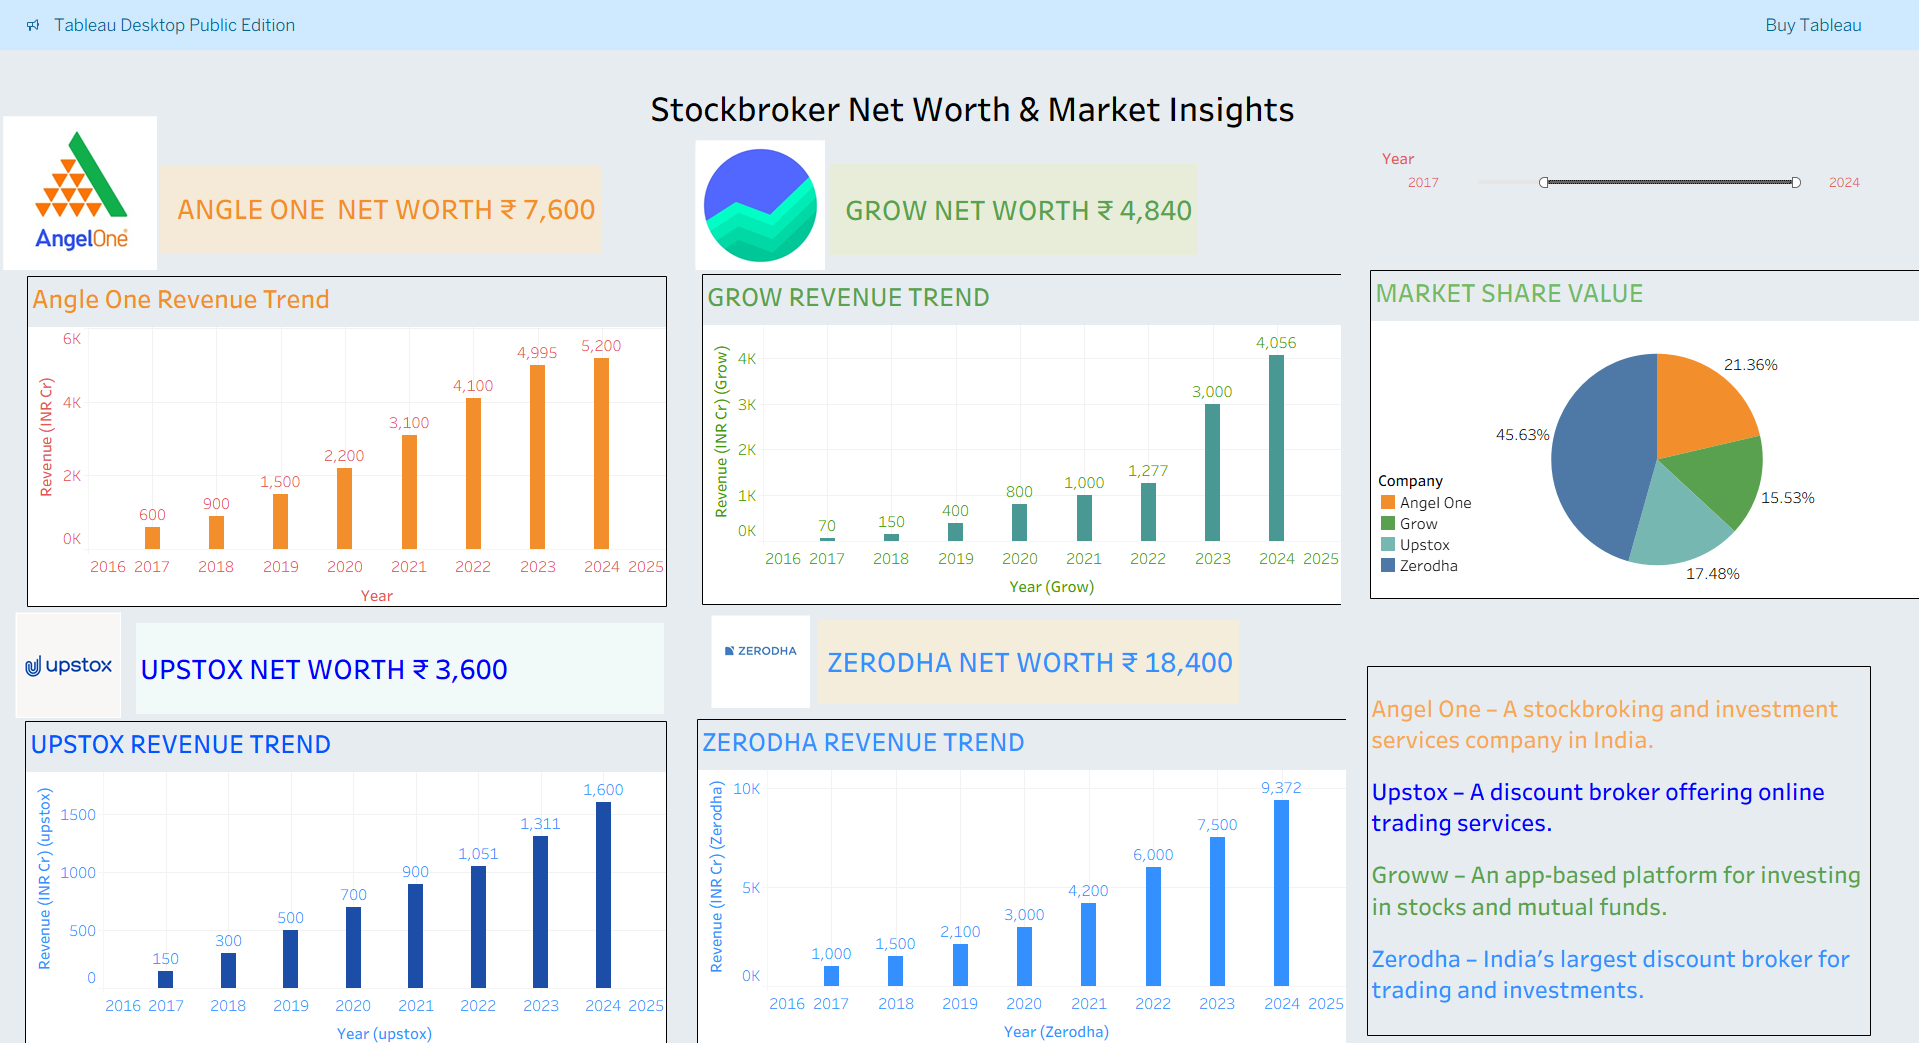

Layout of this report page (visuals, bound fields, positions):
{"tool":"tableau","page":{"name":"Dashboard 2","canvas":[1000,1000],"units":"permille","ordinal":1},"visuals":[{"type":"text","box":[336.9,4.7,402.5,104.5]},{"type":"image","param":"Image/IMG-20250917-WA0029.jpg","box":[1.6,63.9,80,162.6]},{"type":"image","param":"Image/IMG-20250917-WA0028.jpg","box":[342.7,90.6,106.5,131.2]},{"type":"filter","title":"Sheet 1","param":"[federated.19bdsbw06x80741b1lqpw1bcte57].[none:Year:qk]","box":[720,98.7,263.7,113.8]},{"type":"worksheet","title":"Sheet 5 (2)","mark":"Automatic","box":[432.2,115,221.4,91.8]},{"type":"worksheet","title":"Sheet 5","mark":"Automatic","box":[83.3,116.1,266.1,88.3]},{"type":"worksheet","title":"Sheet 2","mark":"Bar","rows":["Revenue (INR Cr) (Grow)"],"cols":["Year (Grow)"],"box":[365.5,225.3,333.2,333.3]},{"type":"worksheet","title":"Sheet 1","mark":"Bar","rows":["Revenue (INR Cr)"],"cols":["Year"],"box":[14.3,227.6,333.2,333.3]},{"type":"legend","title":"Sheet 6","param":"[federated.19bdsbw06x80741b1lqpw1bcte57].[none:Company:nk]","box":[717.6,422.8,83.9,123.1]},{"type":"image","param":"Image/4a8fc04a855b4e7a968e268b08543958.jpg","box":[326.5,569.1,138.8,94.1]},{"type":"worksheet","title":"Sheet 5 (4)","mark":"Automatic","box":[426.1,573.8,254.1,84.8]},{"type":"worksheet","title":"Sheet 5 (3)","mark":"Automatic","box":[70.6,577.2,275.2,91.8]},{"type":"text","box":[712.1,620.2,262.5,372.8]}]}

Visuals, with their boxes on the dashboard's canvas, which has no fixed pixel size, in thousandths of its width and height (x1, y1, x2, y2). These are canvas units, not pixel positions in the 1919x1043 screenshot, which may show the page scaled, cropped or inside an application window:
text: <region>337, 5, 739, 109</region>
image: <region>2, 64, 82, 226</region>
image: <region>343, 91, 449, 222</region>
"Sheet 1" filter: <region>720, 99, 984, 212</region>
"Sheet 5 (2)" worksheet: <region>432, 115, 654, 207</region>
"Sheet 5" worksheet: <region>83, 116, 349, 204</region>
"Sheet 2" worksheet (Bar marks): <region>366, 225, 699, 559</region>
"Sheet 1" worksheet (Bar marks): <region>14, 228, 348, 561</region>
"Sheet 6" legend: <region>718, 423, 802, 546</region>
image: <region>326, 569, 465, 663</region>
"Sheet 5 (4)" worksheet: <region>426, 574, 680, 659</region>
"Sheet 5 (3)" worksheet: <region>71, 577, 346, 669</region>
text: <region>712, 620, 975, 993</region>
